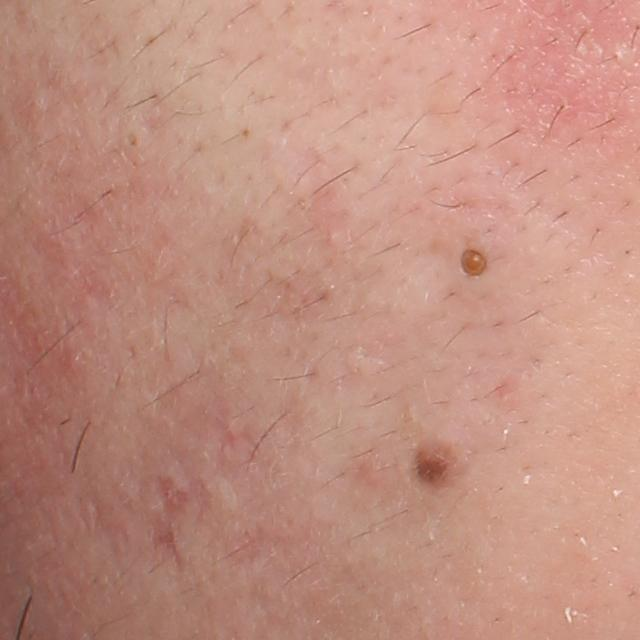atrophic_scar: (143, 473, 207, 575)
comedo: (456, 240, 493, 283), (123, 129, 141, 151)
